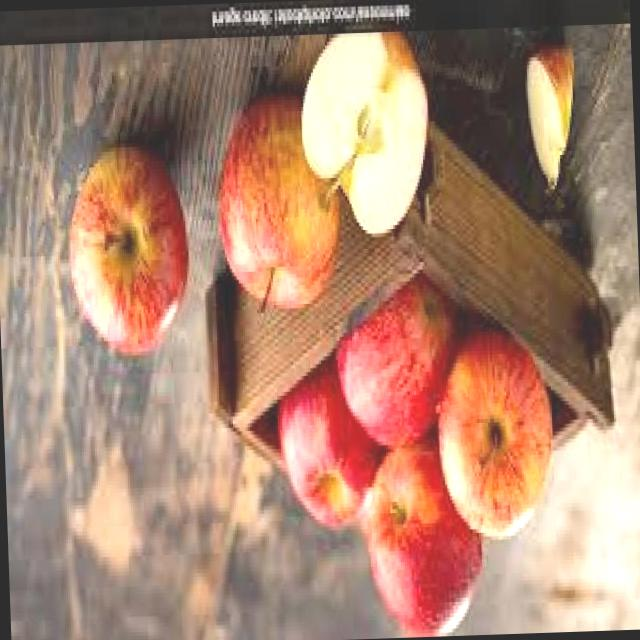Apple: (212, 94, 342, 318), (296, 31, 432, 242), (65, 144, 192, 360), (432, 325, 556, 545), (357, 438, 484, 638), (332, 272, 460, 454), (273, 358, 382, 536), (524, 44, 578, 194)
